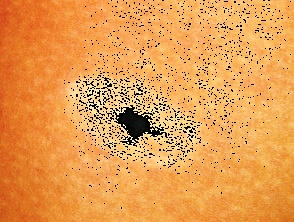vitiligo: (37, 47, 242, 210)
